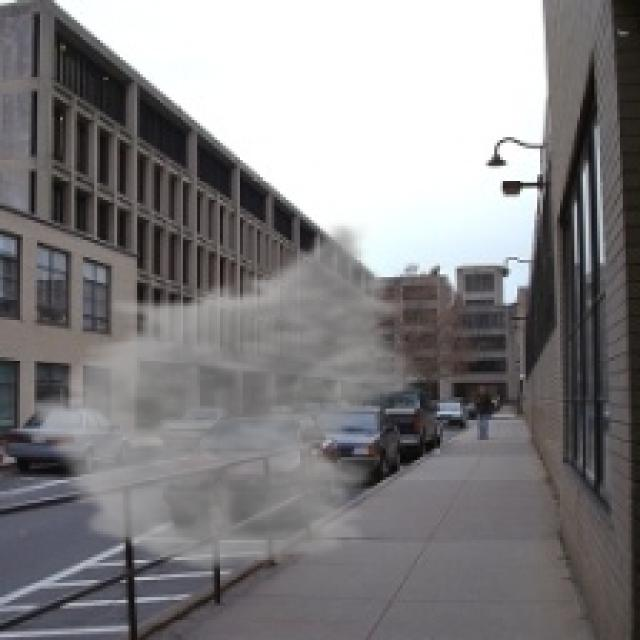smoke: (14, 220, 432, 574)
